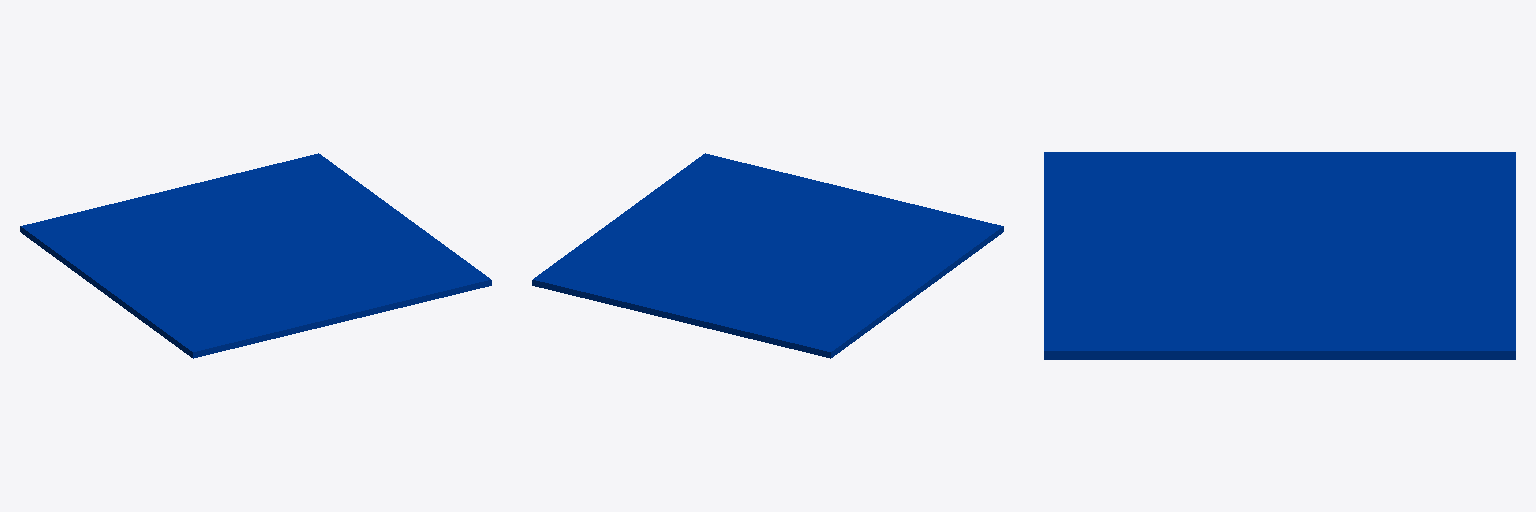
URDF robot description (square):
<?xml version="1.0"?>
<!-- created with Phobos 1.0.1 "Capricious Choutengan" -->
  <robot name="square">

    <link name="Untitled">
      <inertial>
        <origin xyz="0 0 0" rpy="0 0 0"/>
        <mass value="0.001"/>
        <inertia ixx="0.001" ixy="0" ixz="0" iyy="0.001" iyz="0" izz="0.001"/>
      </inertial>
      <visual name="Cube">
        <origin xyz="0 0 0" rpy="0 0 0"/>
        <geometry>
          <box size="0.50 0.50 0.01"/>
        </geometry>
        <material name="Material.002"/>
      </visual>
    </link>

    <material name="Material.002">
      <color rgba="0.004 0.275 0.67 1.0"/>
    </material>

  </robot>

--- Facts derived from the render (not from the file) ---
Views: 3 orthographic renders of the robot side by side, from view 1: azimuth 30°, elevation 25°; view 2: azimuth 150°, elevation 25°; view 3: azimuth 270°, elevation 25°.
Robot: square — 1 links, 0 joints (none); root link Untitled; default pose: all joints at 0.
Links seen in each view (by area): view 1: Untitled; view 2: Untitled; view 3: Untitled.
Boxes of the visible links, <box> form: Untitled: <box>20,153,491,358</box>; Untitled: <box>532,153,1003,358</box>; Untitled: <box>1044,152,1515,359</box>.
Bounding box of the posed robot: 0.5 × 0.5 × 0.01 m (x, y, z).
Geometry: primitives only (box / cylinder / sphere), no mesh files.